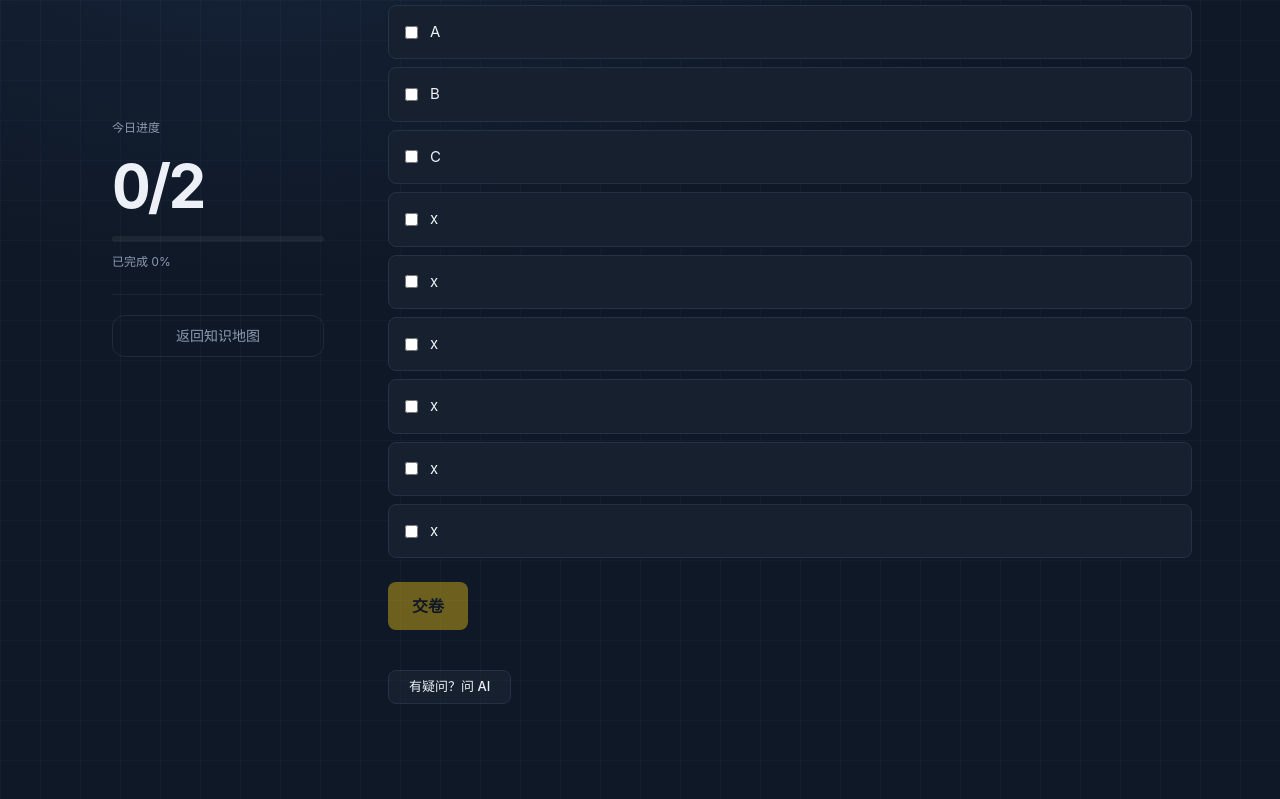
Test: 刷题页每题有 AI 问答，请求只带当前题的 cardId 与本轮提问
The width and height of the screenshot is (1280, 799).
(page scrolled)
Click the button "有疑问？问 AI" at (450, 687), box [388, 670, 511, 704]
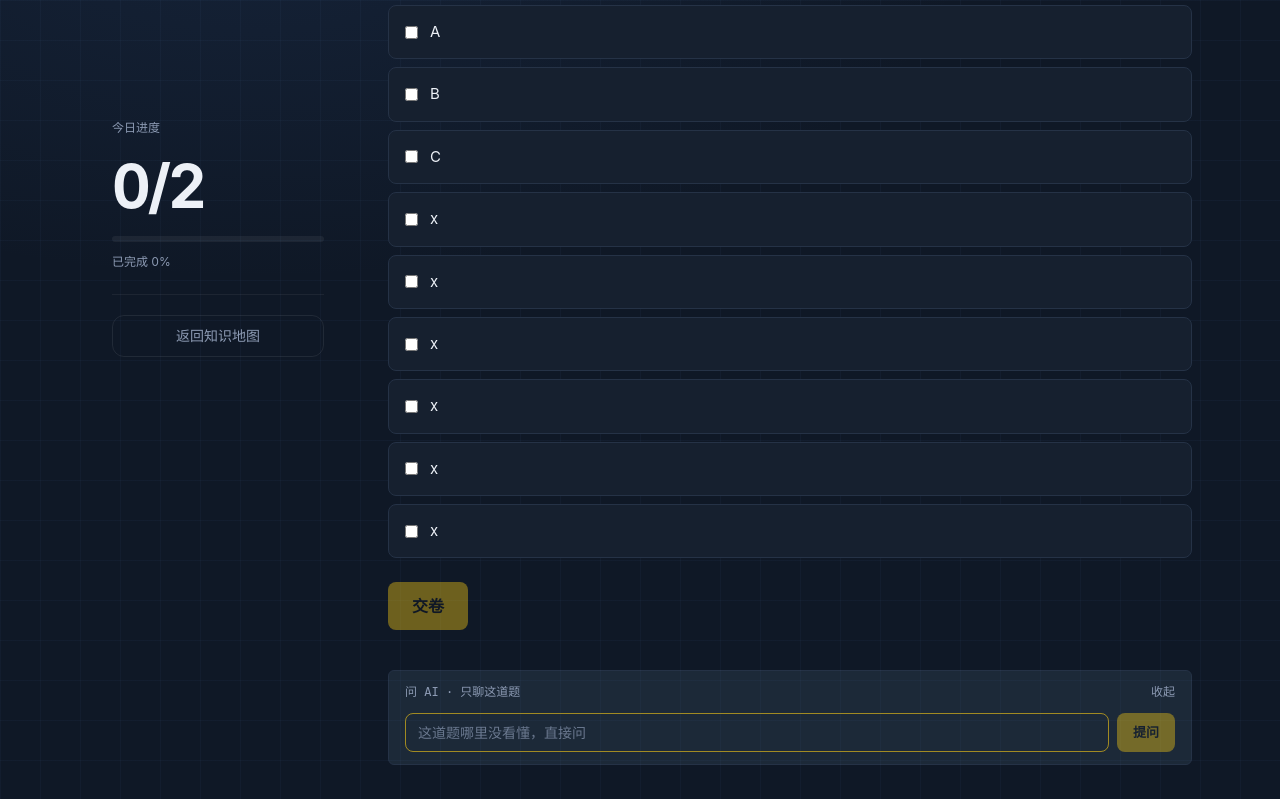
Type "这题没懂" into the field named "向 AI 提问" at (757, 733), box [405, 713, 1109, 752]
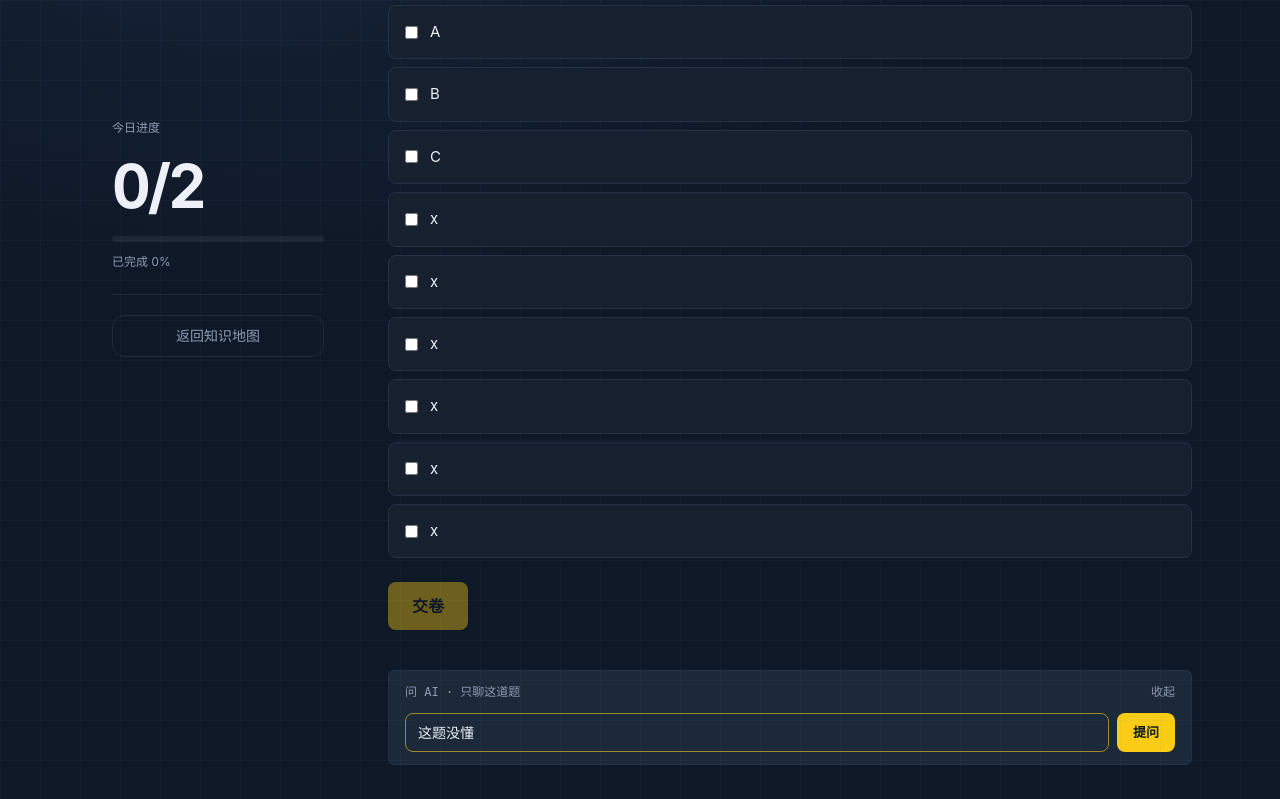
Click the button "提问" at (1146, 733), box [1117, 713, 1175, 752]
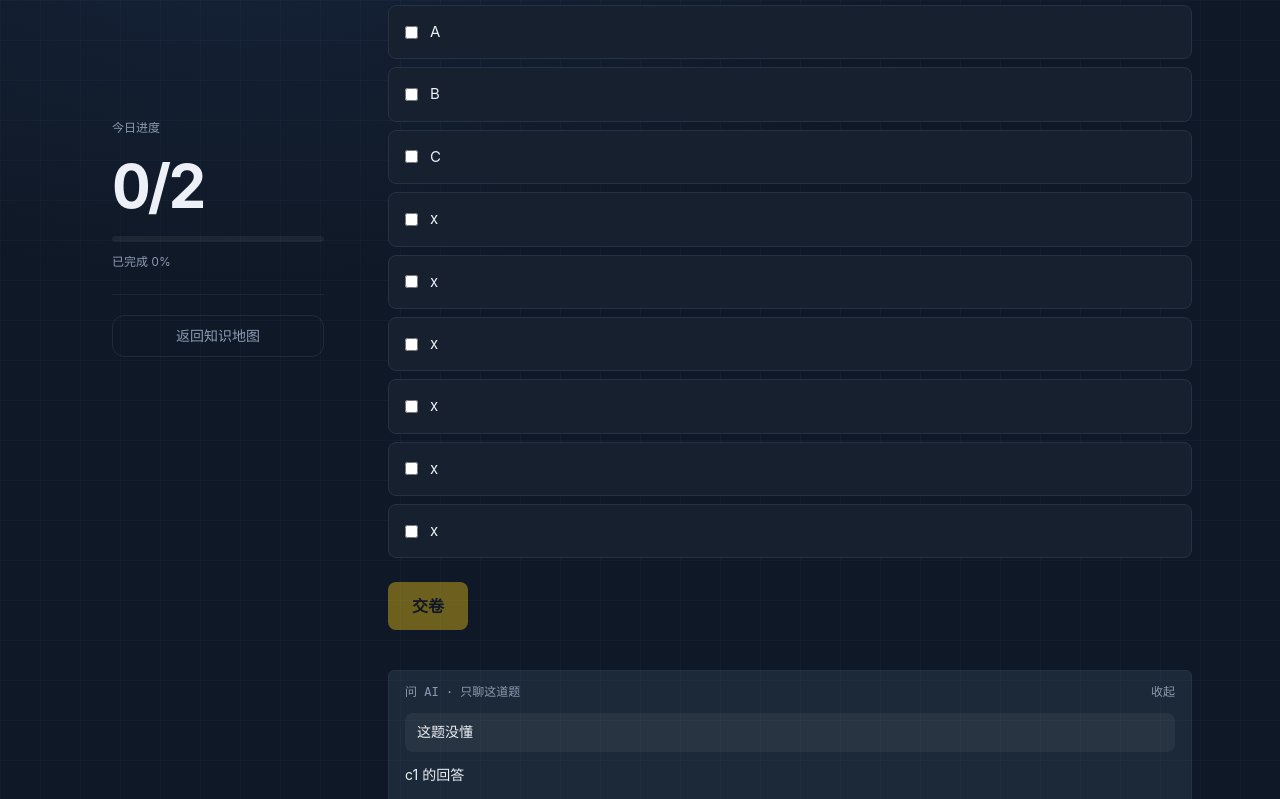
Expected: the text "c1 的回答" is shown, [405, 766, 464, 783]
